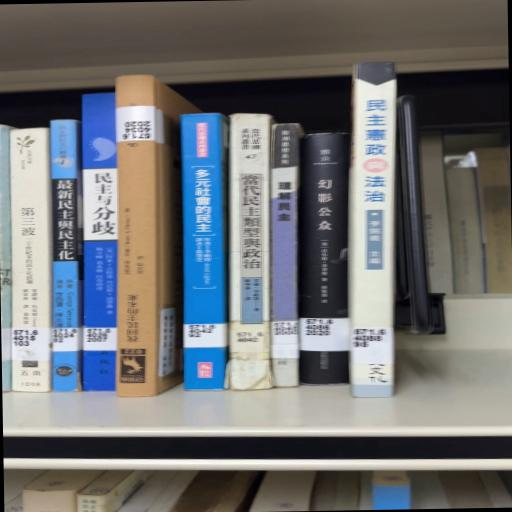reverse: (116, 76, 202, 398)
